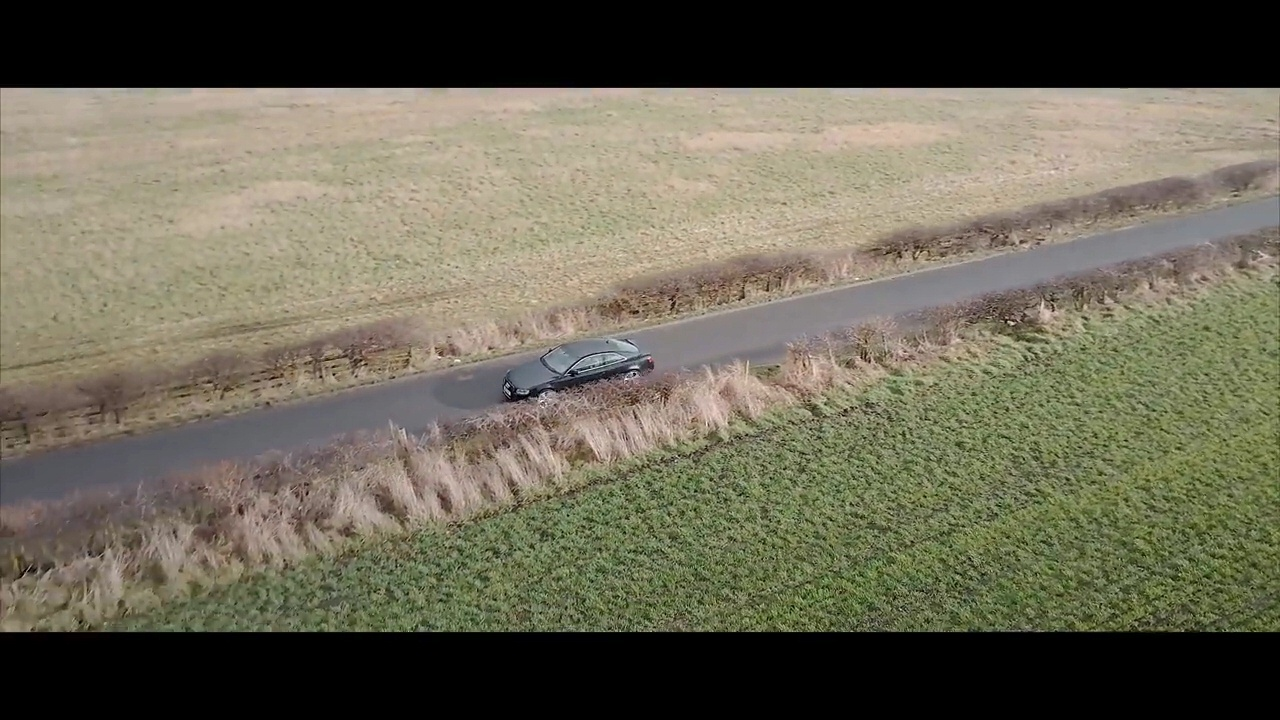araba: (496, 334, 654, 406)
